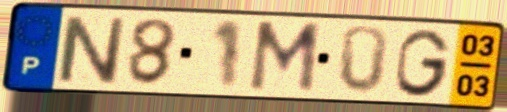0: (337, 23, 391, 97)
1: (207, 17, 241, 93)
8: (125, 16, 178, 89)
G: (392, 26, 454, 99)
M: (245, 19, 324, 97)
N: (56, 13, 127, 87)
